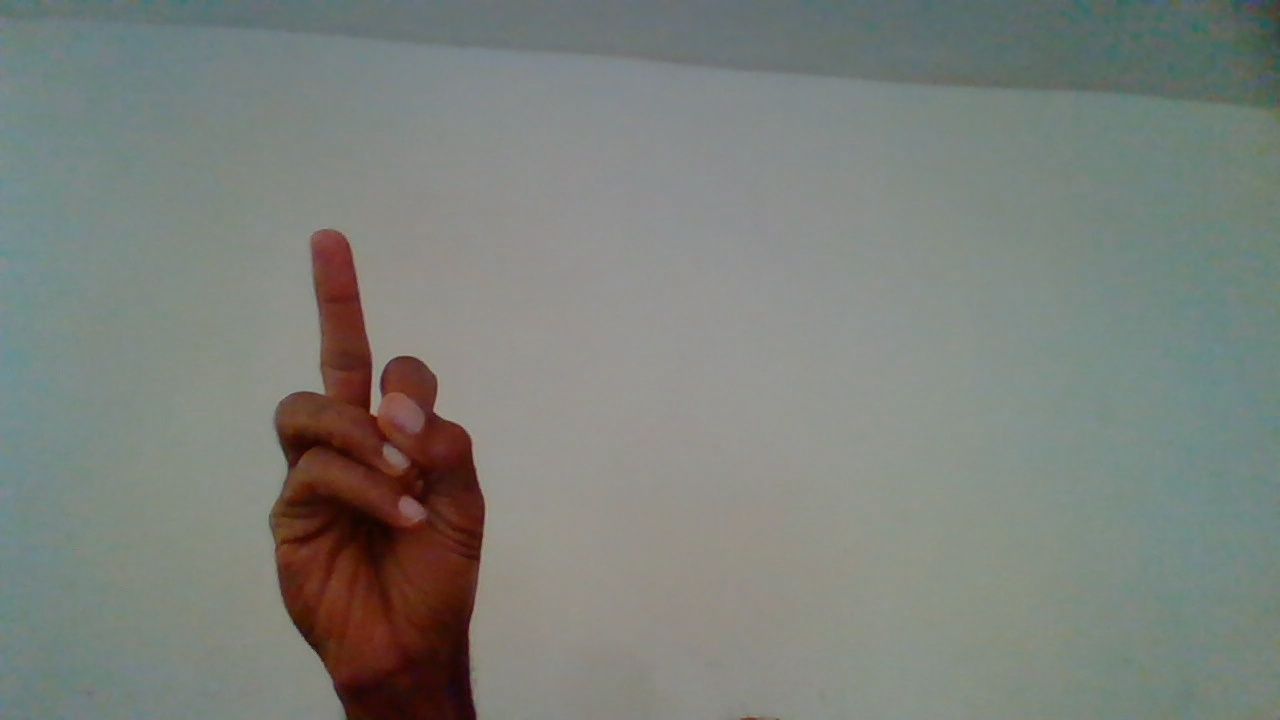he: (267, 224, 489, 718)
